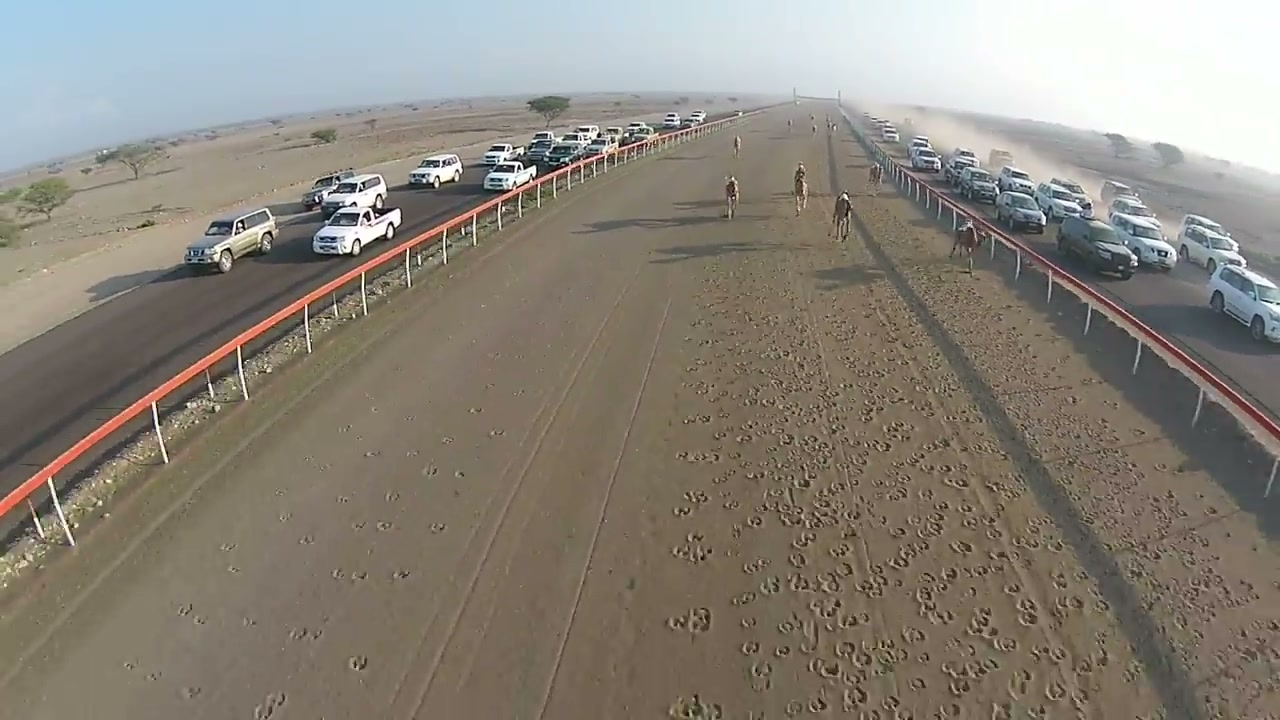animal_foot_print: (653, 244, 1151, 717), (882, 233, 1279, 716), (680, 334, 845, 613), (808, 594, 848, 631), (667, 694, 723, 719), (672, 532, 712, 564), (666, 608, 711, 633), (965, 607, 998, 638), (842, 685, 874, 716), (983, 626, 1017, 653), (253, 692, 287, 719), (123, 661, 164, 682), (808, 657, 843, 680), (882, 419, 915, 442), (749, 659, 772, 692), (1008, 668, 1034, 697), (1030, 645, 1068, 664), (1016, 598, 1040, 626), (939, 468, 969, 490), (948, 676, 975, 699), (1044, 678, 1067, 703), (331, 568, 368, 583), (677, 451, 723, 463), (900, 625, 927, 645), (791, 530, 816, 550), (990, 700, 1016, 719), (289, 627, 324, 641), (743, 558, 770, 575), (731, 590, 759, 606), (881, 694, 901, 715), (1122, 661, 1141, 682), (683, 490, 709, 505), (348, 655, 369, 672), (787, 552, 808, 569), (949, 540, 973, 554), (741, 640, 760, 655), (908, 676, 927, 691), (181, 686, 202, 699), (682, 415, 711, 424), (391, 569, 412, 581), (745, 514, 764, 527), (672, 505, 692, 517), (177, 603, 194, 617), (773, 645, 791, 658), (420, 465, 439, 477), (349, 570, 368, 582), (429, 522, 447, 534), (384, 491, 401, 503), (740, 616, 756, 628), (723, 497, 739, 509), (376, 521, 394, 531), (241, 616, 256, 627), (351, 521, 367, 531), (298, 534, 314, 544), (331, 568, 345, 579), (712, 430, 727, 440), (488, 428, 504, 437), (277, 512, 291, 522), (219, 543, 236, 551), (364, 450, 381, 458), (273, 488, 287, 497), (405, 449, 420, 457), (226, 565, 240, 573), (440, 436, 453, 444), (454, 469, 465, 478)
